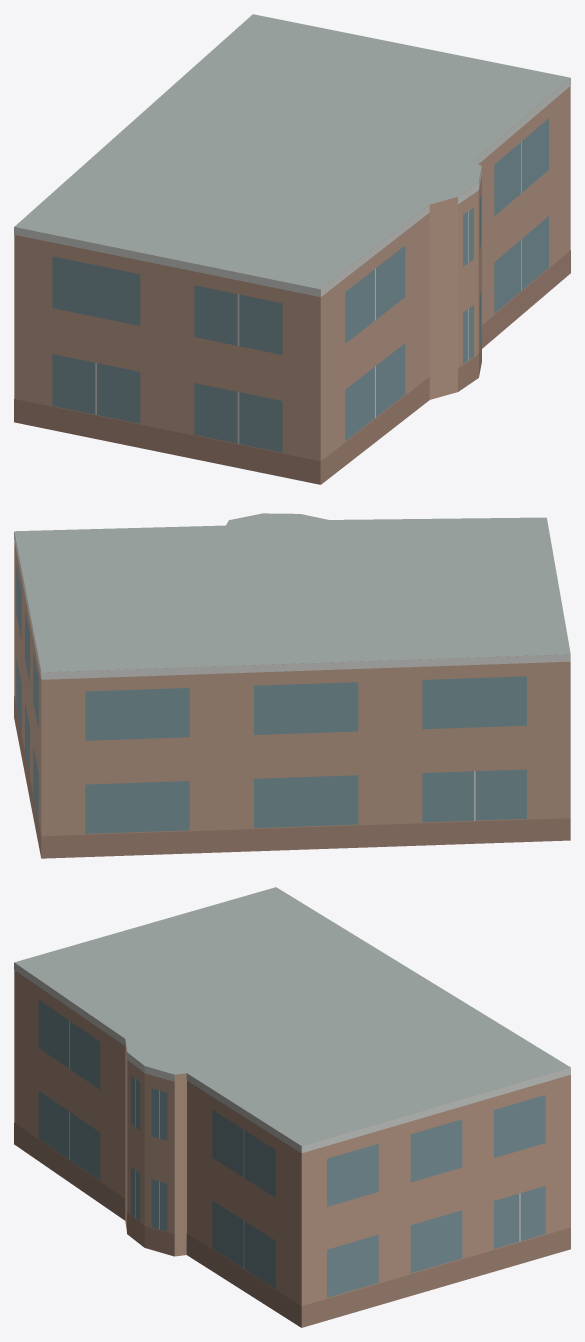
The model's file is survey-upis-32624861.glb.
3 renders of one model, top to bottom at view 1: azimuth 30°, elevation 25°; view 2: azimuth 150°, elevation 25°; view 3: azimuth 270°, elevation 25°, orthographic. The views are drawn at different scales.
Visible parts, largest first — view 1: survey-upis-32624861.tmp; view 2: survey-upis-32624861.tmp; view 3: survey-upis-32624861.tmp.
Boxes of the visible parts, <box> form: survey-upis-32624861.tmp: <box>14,14,570,484</box>; survey-upis-32624861.tmp: <box>14,513,570,858</box>; survey-upis-32624861.tmp: <box>14,887,570,1327</box>.
Size of the model in its own units: 18.65 by 6.1 by 16.94.
